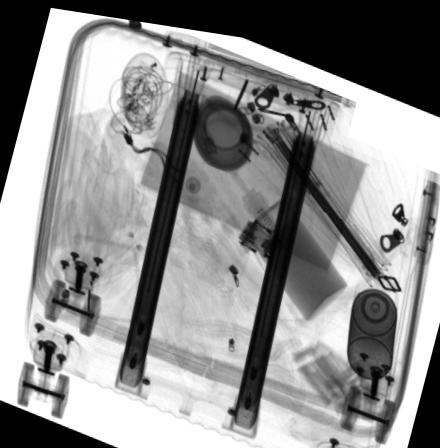Sprayer: (346, 265, 398, 367)
